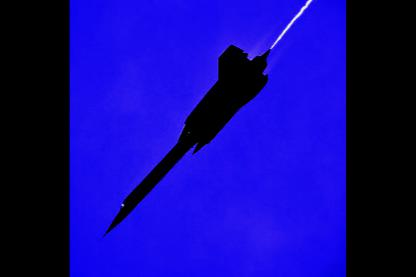Rafale: (98, 44, 270, 240)
